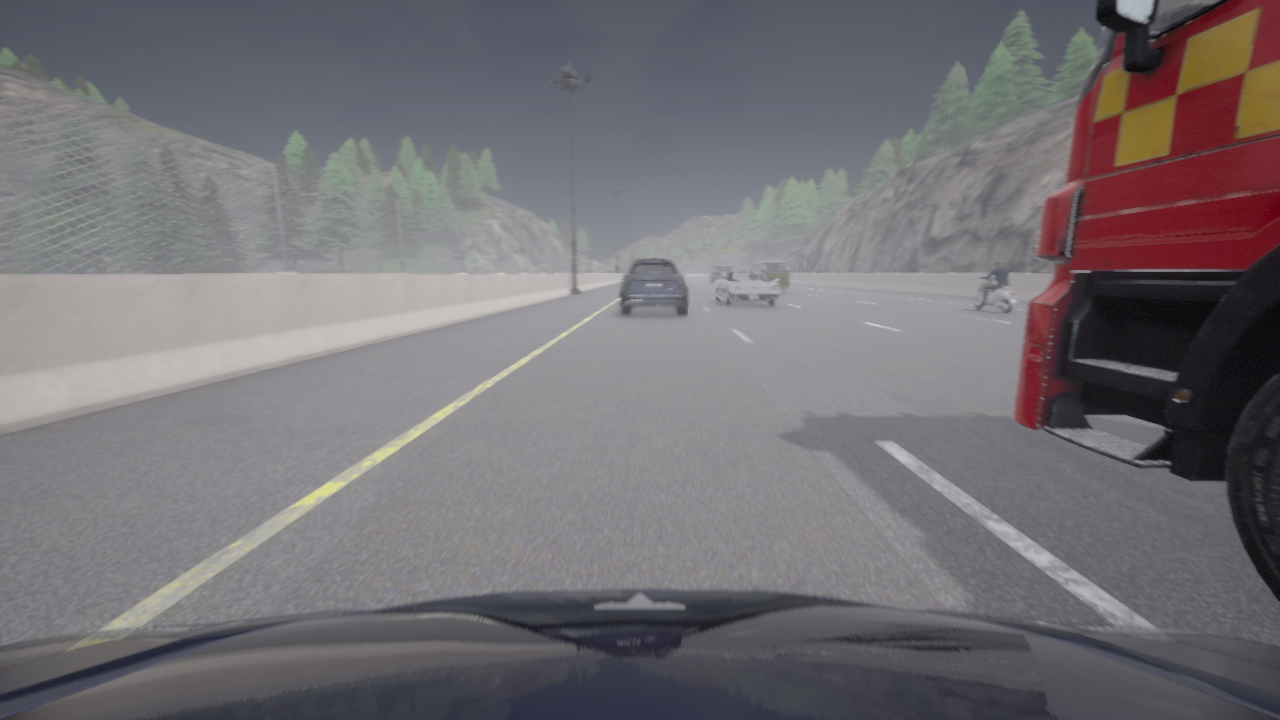cyclist: (0, 588, 1279, 719), (1012, 0, 1279, 602), (621, 258, 687, 315), (715, 271, 780, 306), (974, 272, 1016, 313), (748, 261, 789, 293), (709, 265, 732, 284)
